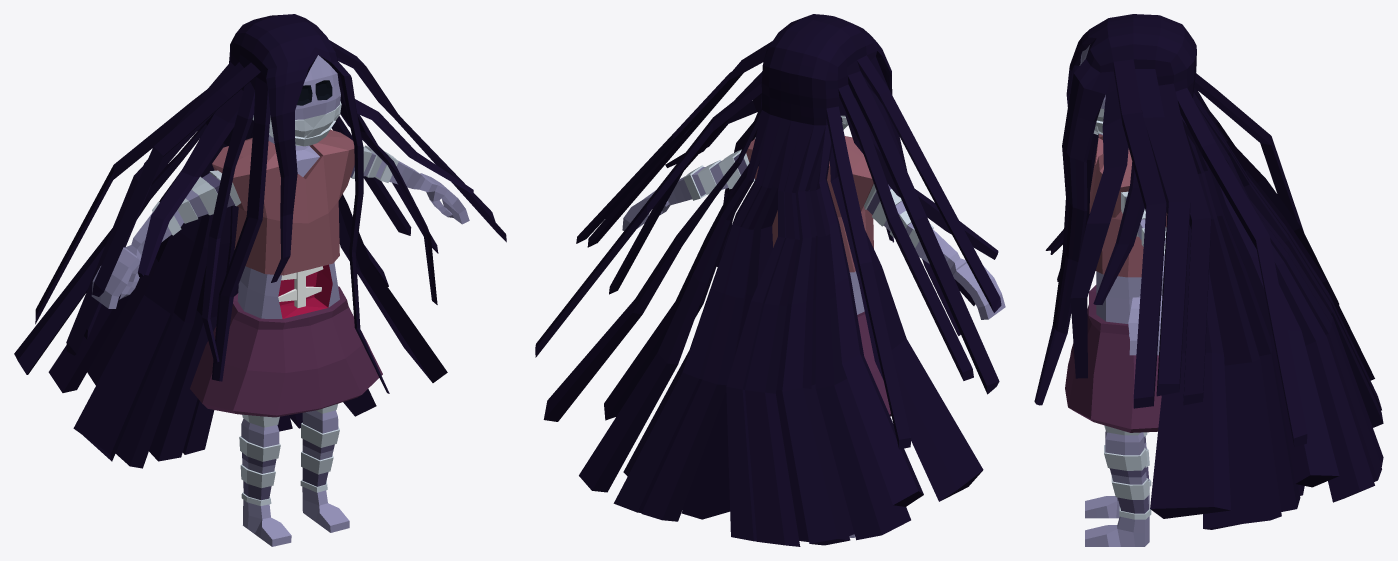
The model's file is Degolificada v6.fbx.
3 views of the same model, side by side, from view 1: azimuth 30°, elevation 25°; view 2: azimuth 150°, elevation 25°; view 3: azimuth 270°, elevation 25° (orthographic). The views are drawn at different scales.
Parts seen in each view (by area): view 1: Cabelo, Corpo; view 2: Cabelo, Corpo; view 3: Cabelo, Corpo.
Boxes of the visible parts, <box> form: Cabelo: <box>14,14,506,468</box>; Corpo: <box>91,55,469,546</box>; Cabelo: <box>535,14,1001,546</box>; Corpo: <box>622,115,1005,537</box>; Cabelo: <box>1034,14,1383,529</box>; Corpo: <box>1065,44,1167,546</box>.
Bounding box in the file's own units: 1.49 × 1.71 × 1.07.
